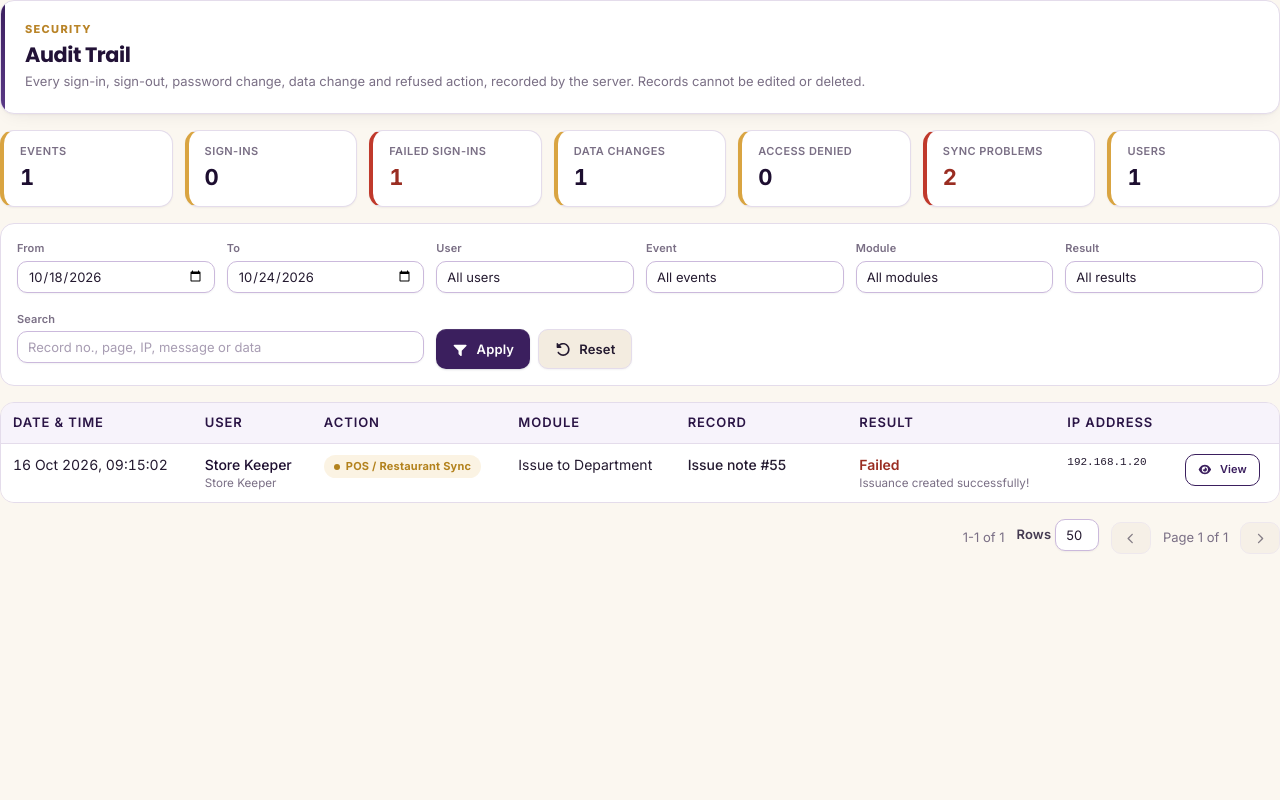
Test: a POS import shows its counts and the rejected records with the reason
The width and height of the screenshot is (1280, 800).
Click the button with aria-label "View details of event 10": (1222, 470) [1185,454,1260,486]
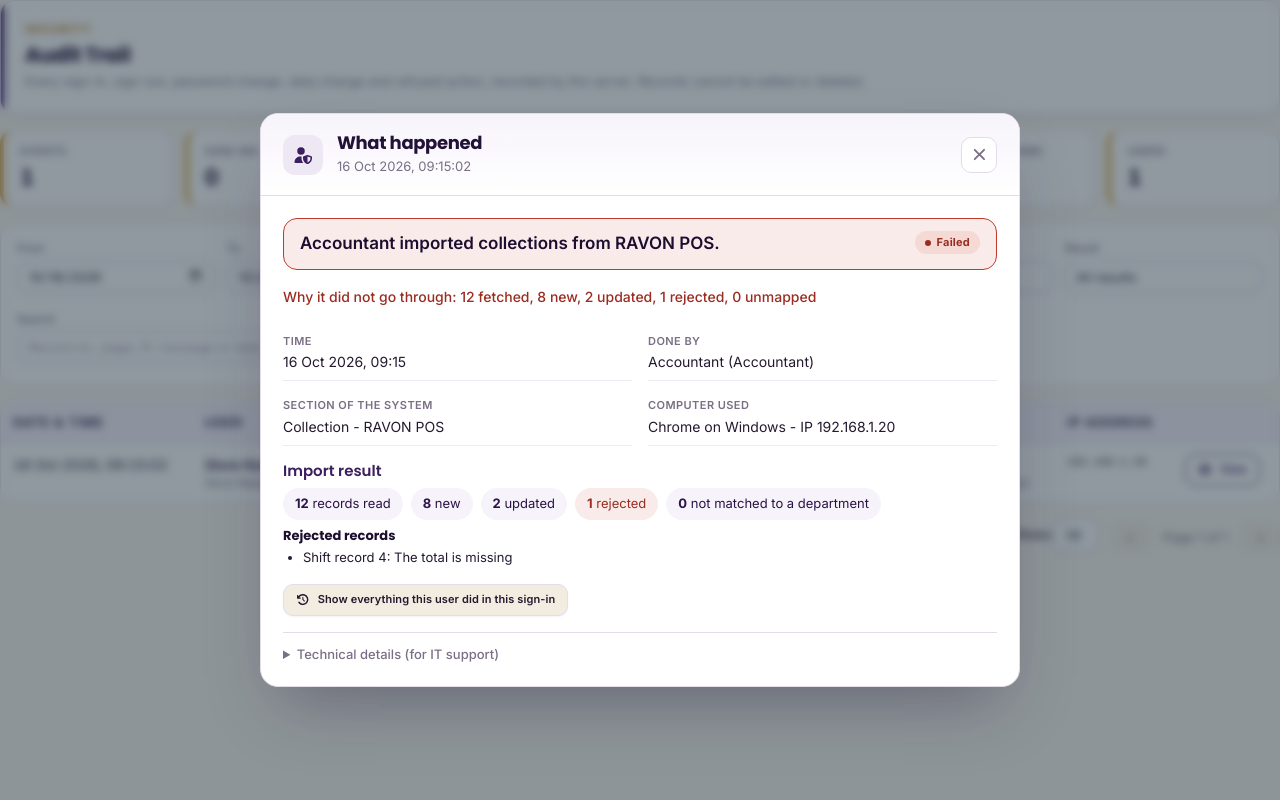
Check: the heading "Import result" is shown, box [283,460,382,481]
Check: the list item "Shift record 4: The total is missing" is shown, box [303,549,512,565]
Check: the text "Why it did not go through" is shown, box [283,288,460,305]
